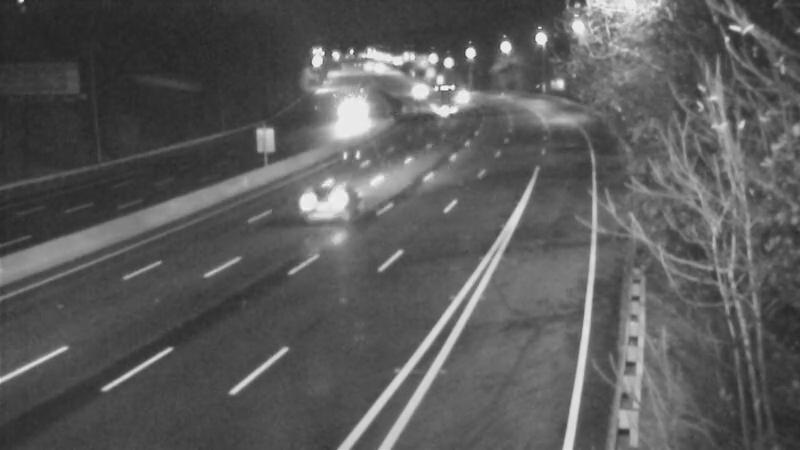vehicle: (292, 160, 372, 240), (392, 63, 442, 113), (438, 73, 488, 123), (418, 68, 468, 118), (325, 95, 375, 145)
